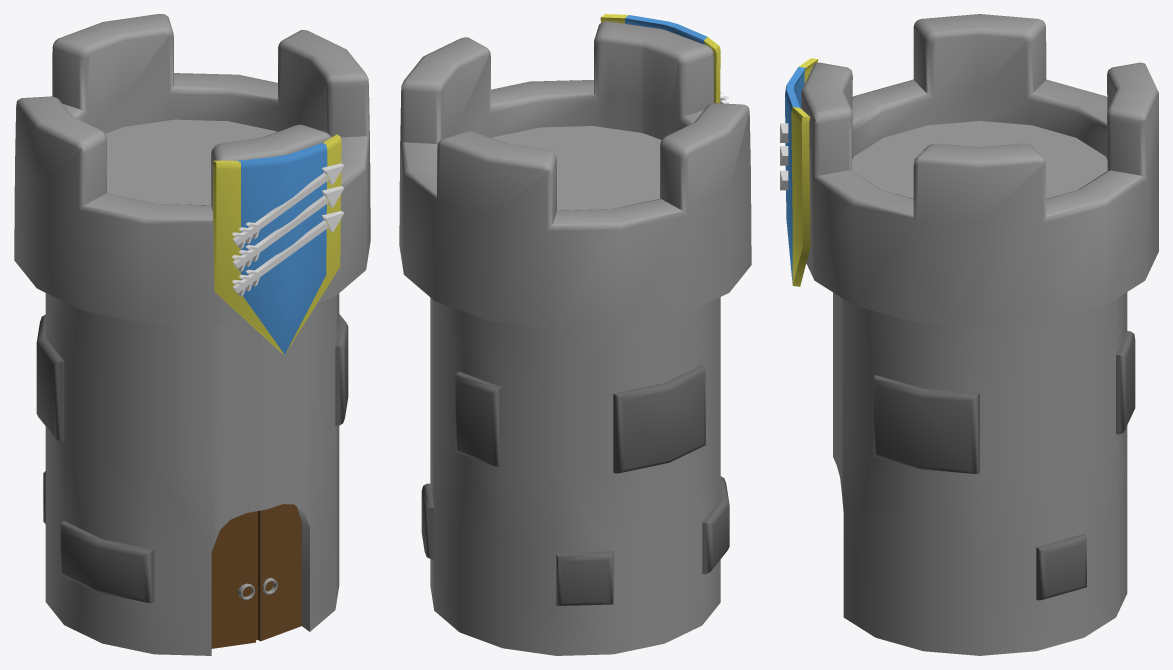
File: triple  arrow tower.fbx
The picture shows the model from 3 angles, left to right: view 1: azimuth 30°, elevation 25°; view 2: azimuth 150°, elevation 25°; view 3: azimuth 270°, elevation 25°; orthographic projection.
Parts seen in each view (by area): view 1: Arrow_Tower_3; view 2: Arrow_Tower_3; view 3: Arrow_Tower_3.
Boxes of the visible parts, x1,y1,x2,y2 form: Arrow_Tower_3: [14, 14, 370, 655]; Arrow_Tower_3: [399, 14, 751, 655]; Arrow_Tower_3: [780, 14, 1158, 655].
Bounding box in the file's own units: 4.95 × 7.72 × 5.23.
